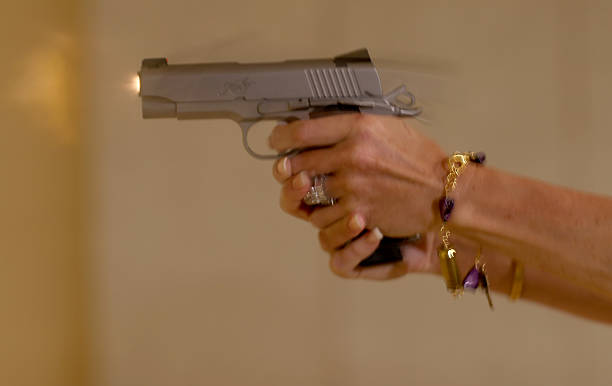pistol: (134, 50, 417, 268)
